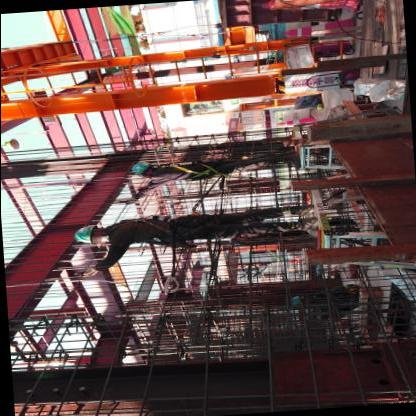safety-shoe: (295, 217, 320, 240), (294, 203, 316, 218), (285, 152, 301, 172)
